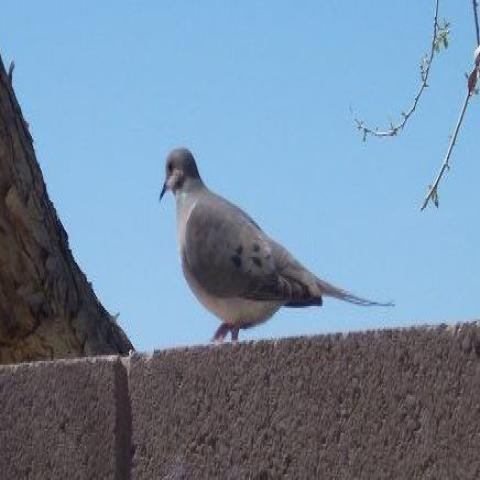bird: (156, 144, 394, 344)
